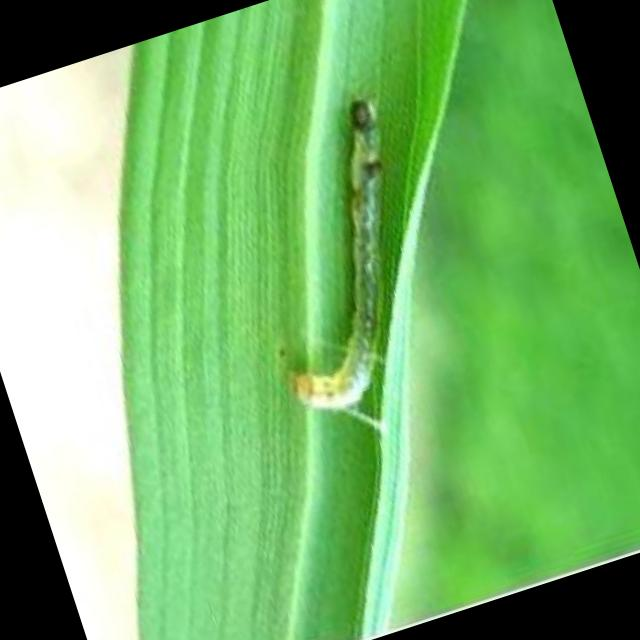leaf-folder: (196, 62, 484, 442)
